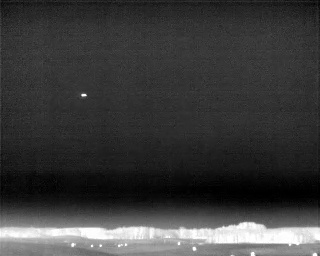AIRPLANE: (79, 90, 89, 100)
